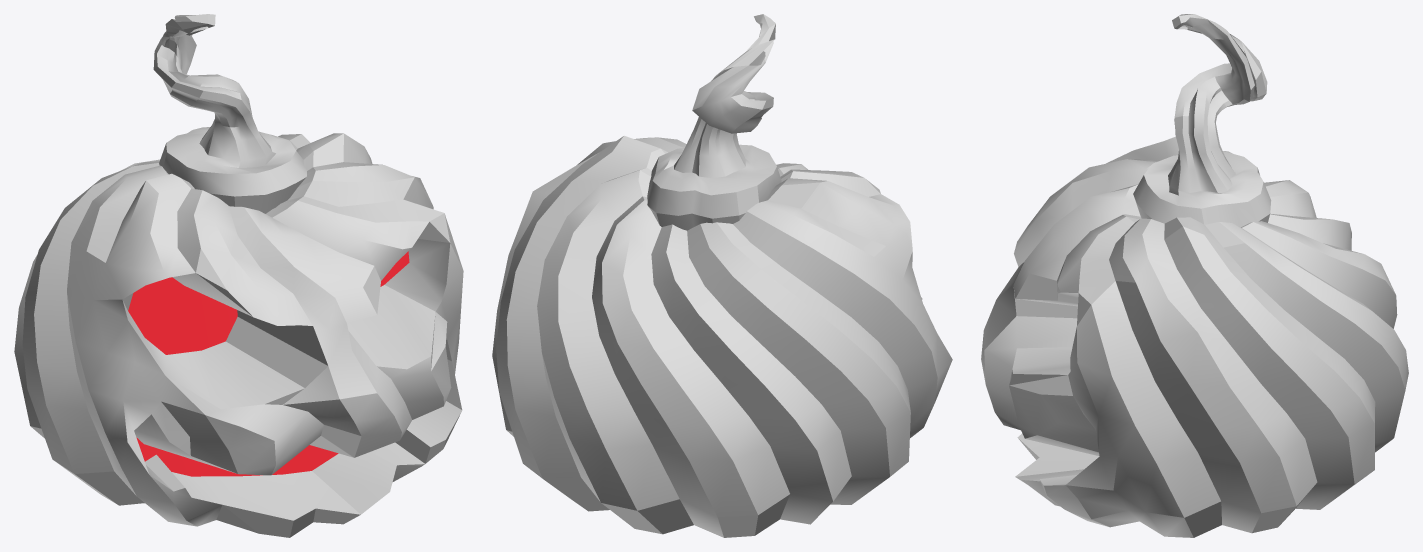
The model's file is EA_Pumpkin_01c.glb.
The picture shows the model from 3 angles, left to right: view 1: azimuth 30°, elevation 25°; view 2: azimuth 150°, elevation 25°; view 3: azimuth 270°, elevation 25°; orthographic projection. The views are drawn at different scales.
Parts seen in each view (by area): view 1: EA_Pumpkin_01c; view 2: EA_Pumpkin_01c; view 3: EA_Pumpkin_01c.
Part boxes in pixels (box(x1,y1,x2,y2)): EA_Pumpkin_01c: box(14, 14, 463, 537); EA_Pumpkin_01c: box(492, 14, 952, 537); EA_Pumpkin_01c: box(981, 14, 1408, 537).
Size of the model in its own units: 2.34 by 2.78 by 2.34.
